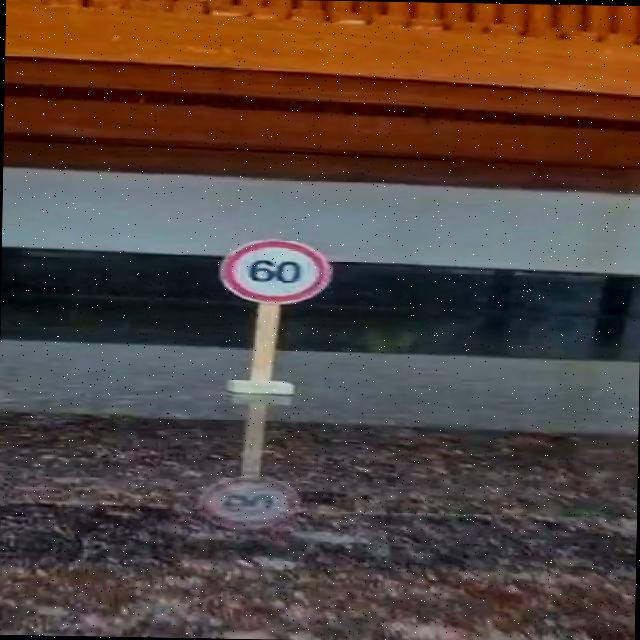Speed60: (200, 224, 344, 313)
